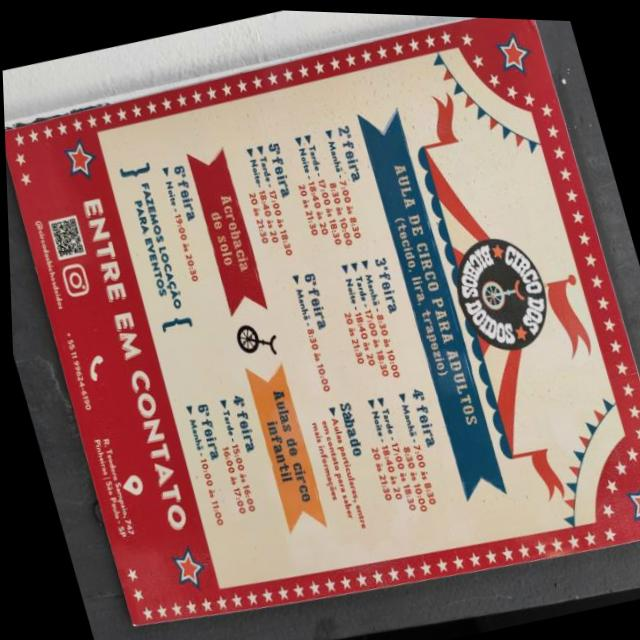qrcode: (49, 219, 82, 258)
